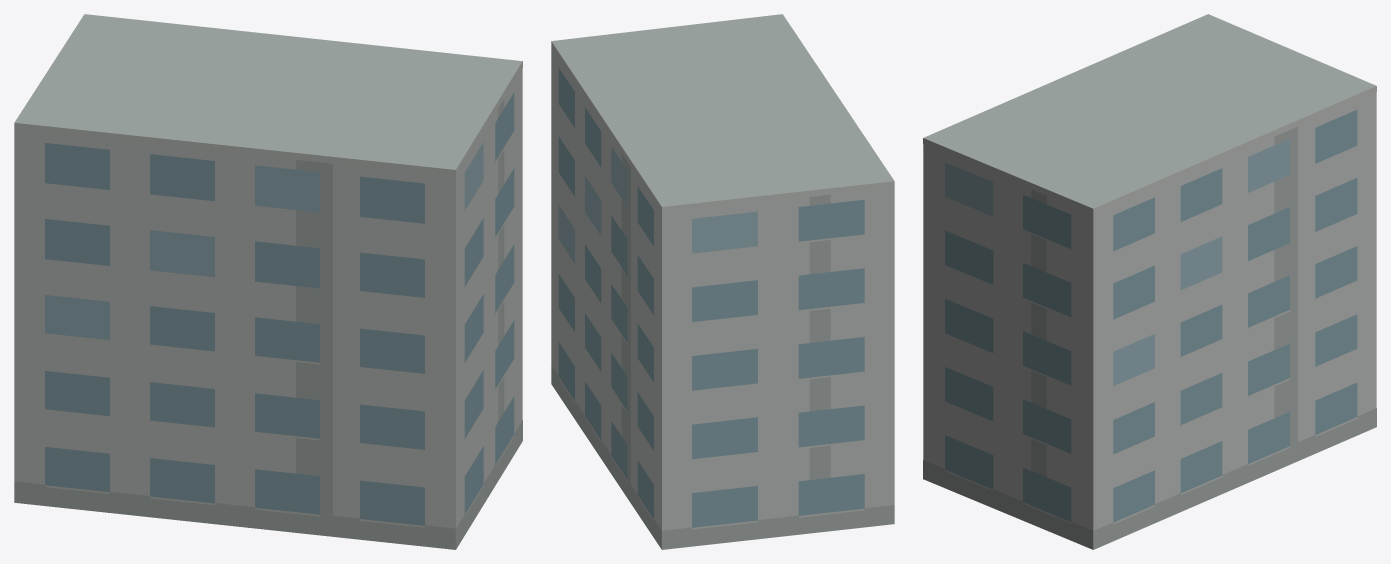
Rendered from survey-upis-32842746.glb.
The picture shows the model from 3 angles, left to right: view 1: azimuth 30°, elevation 25°; view 2: azimuth 150°, elevation 25°; view 3: azimuth 270°, elevation 25°; orthographic projection. The views are drawn at different scales.
Parts seen in each view (by area): view 1: survey-upis-32842746.tmp; view 2: survey-upis-32842746.tmp; view 3: survey-upis-32842746.tmp.
Boxes of the visible parts, x1=… form: survey-upis-32842746.tmp: x1=14, y1=14, x2=522, y2=549; survey-upis-32842746.tmp: x1=551, y1=14, x2=894, y2=549; survey-upis-32842746.tmp: x1=923, y1=14, x2=1376, y2=549.
Bounding box in the file's own units: 16.17 × 13.2 × 15.92.
